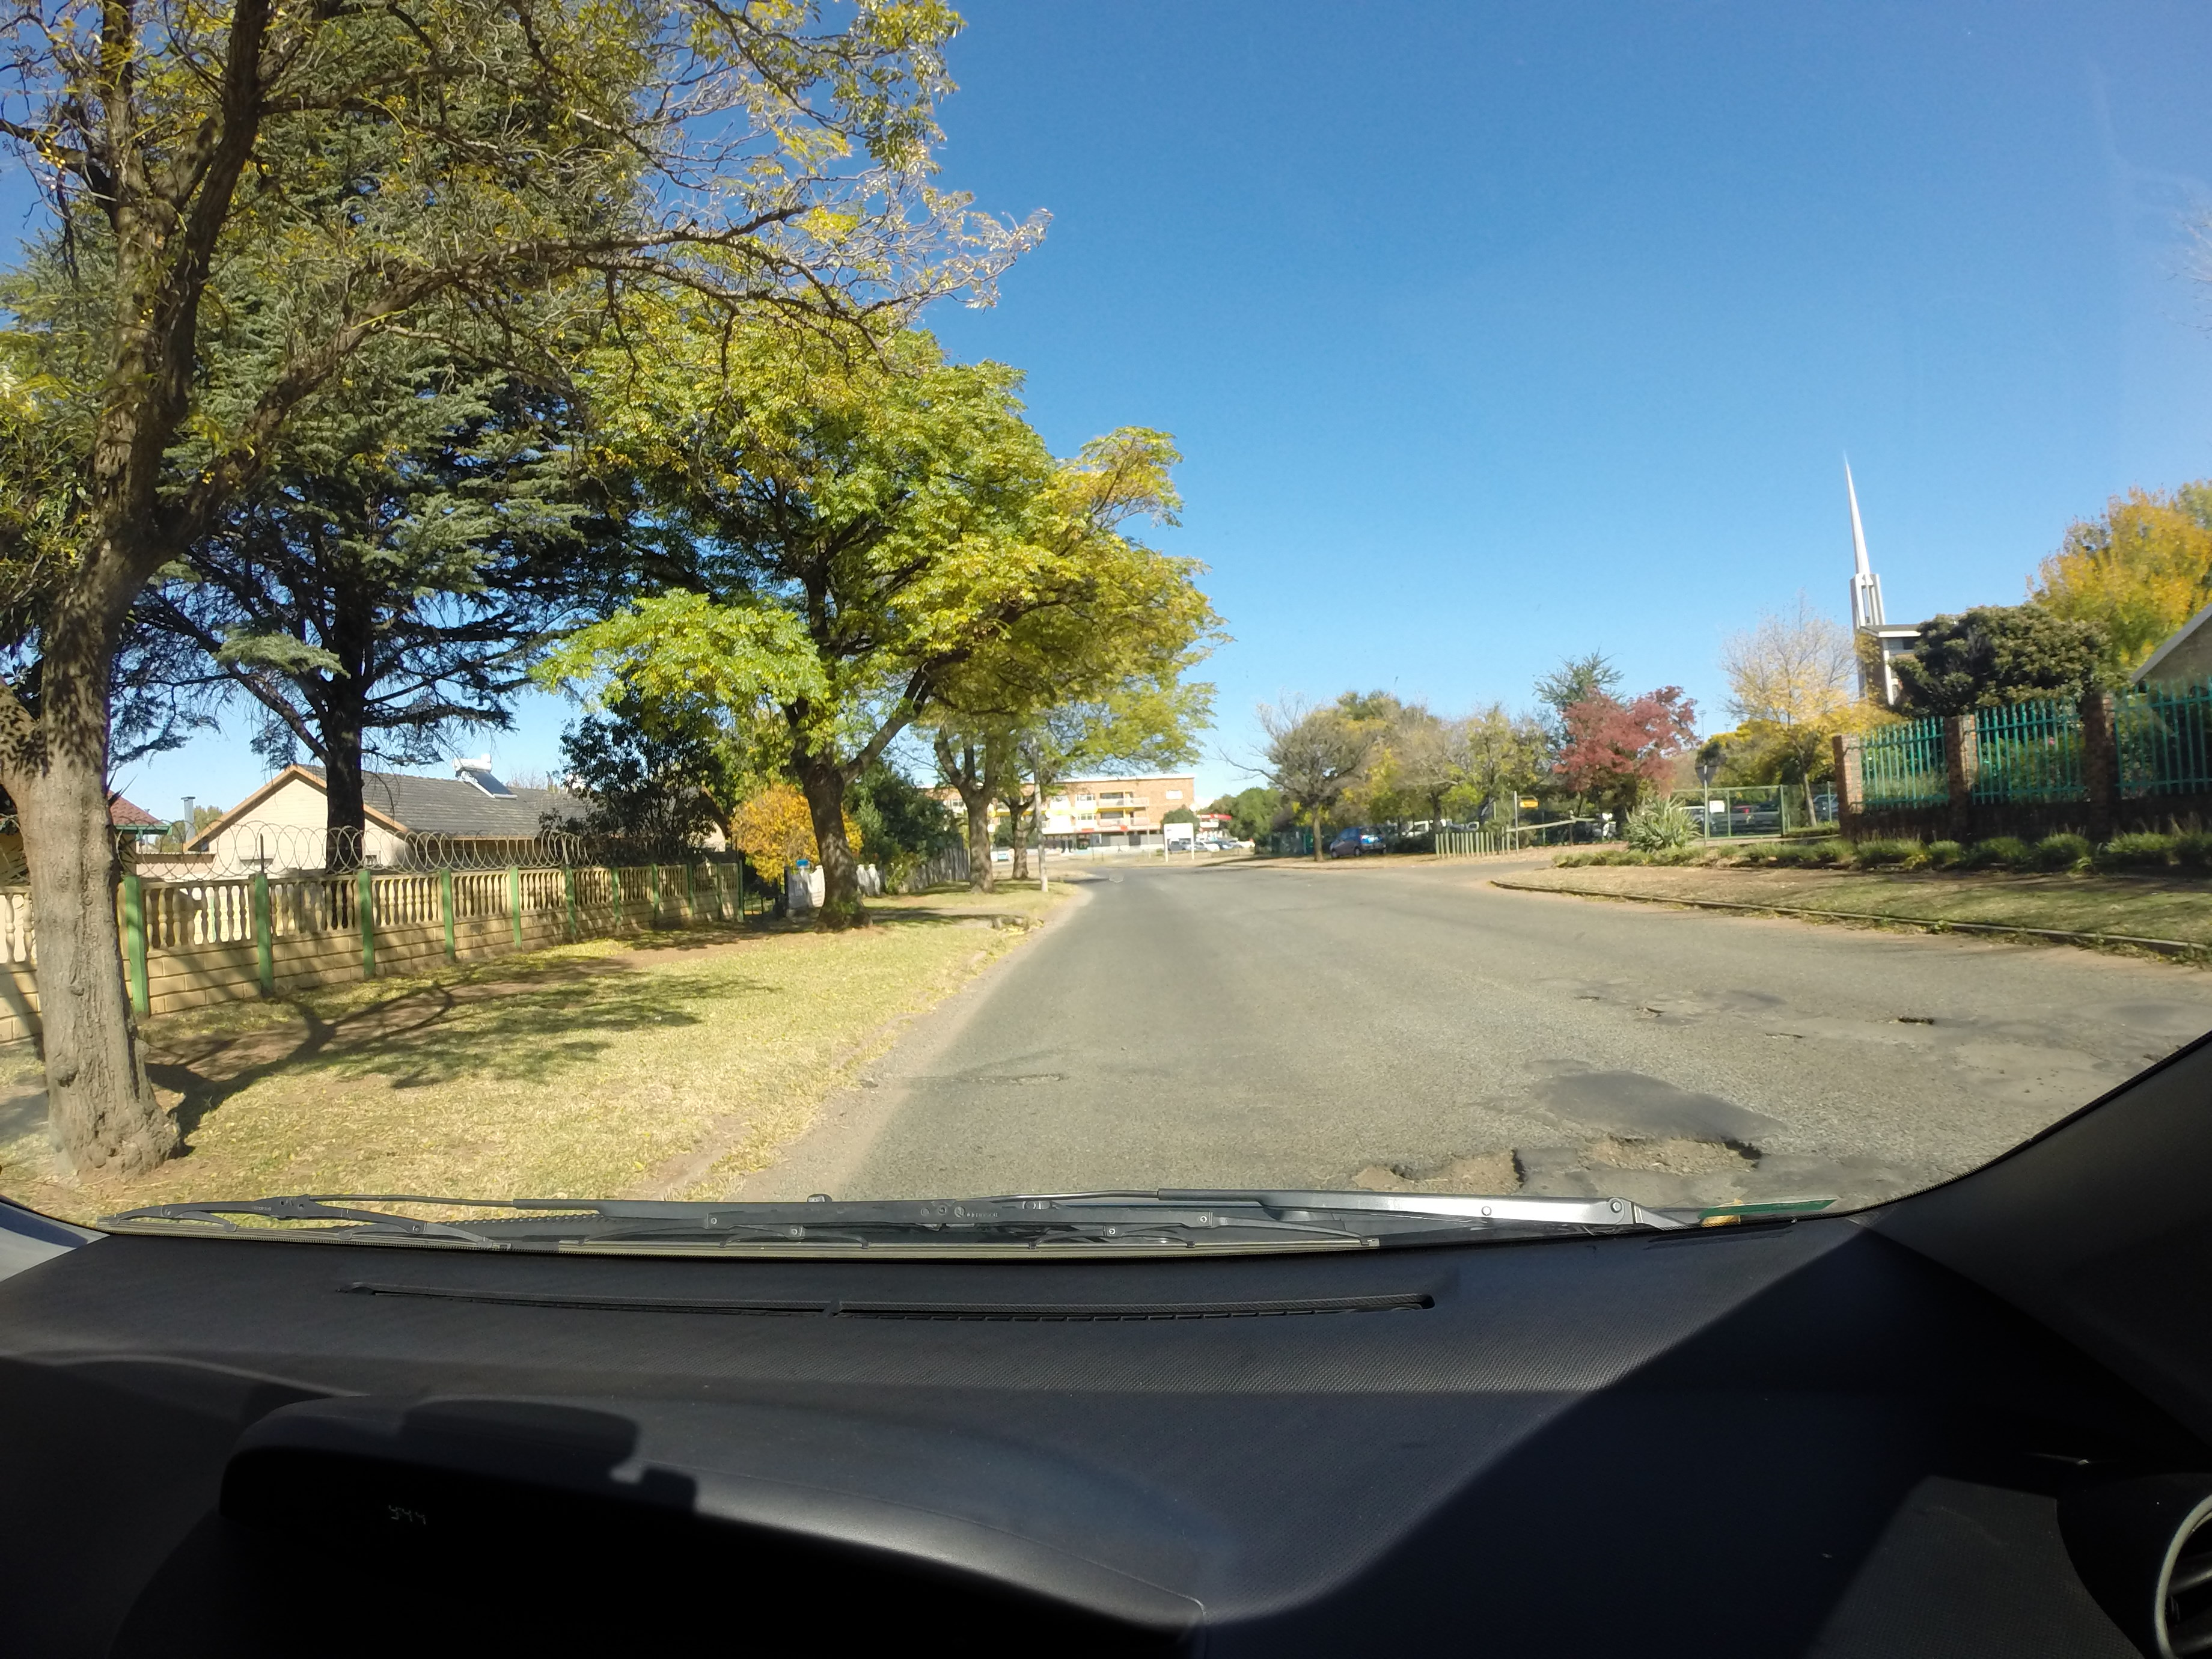pothole: (1355, 1129, 1810, 1187)
